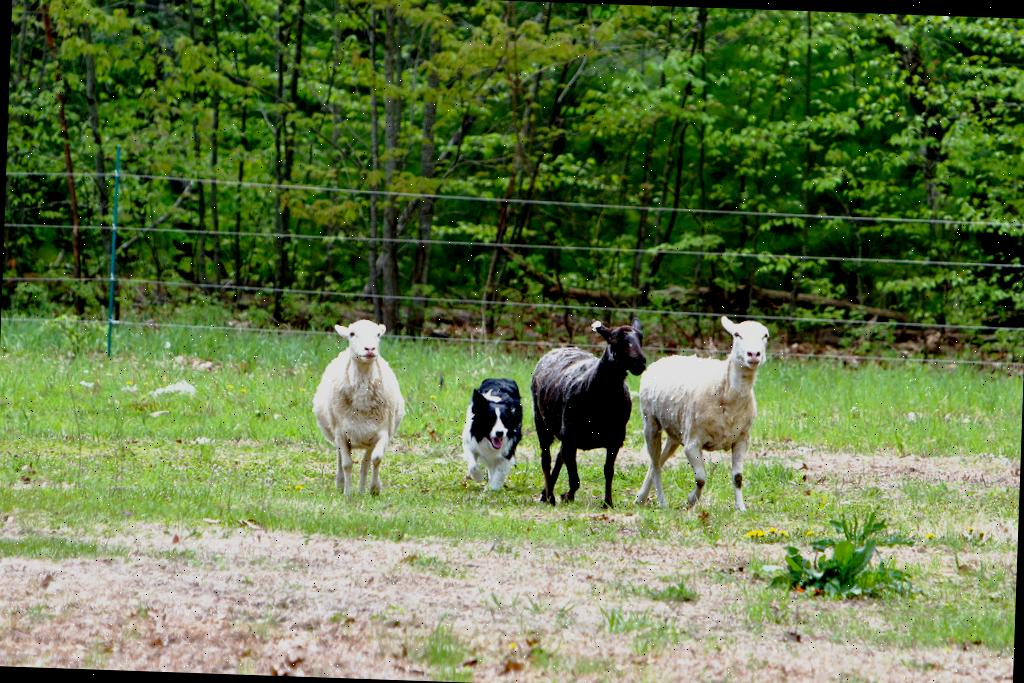Sheep: (632, 311, 770, 513), (526, 314, 648, 510), (308, 316, 410, 500)
